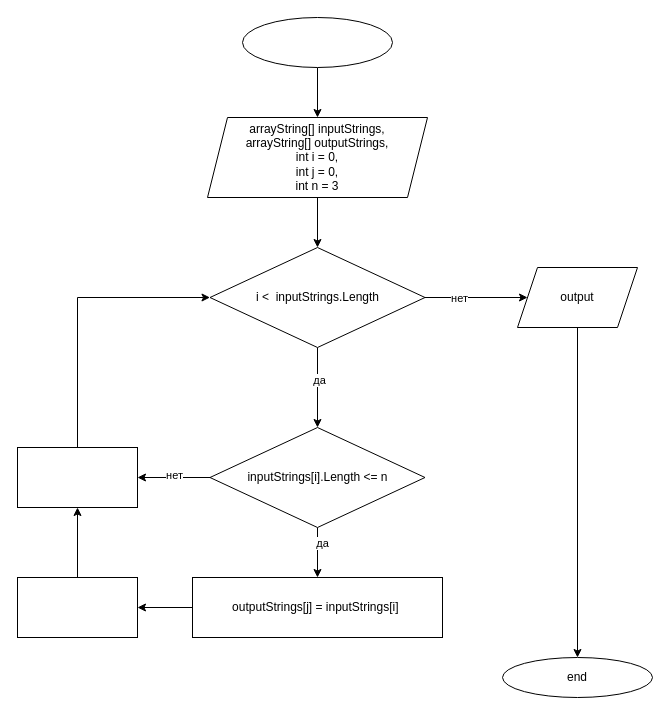
The diagram is 670 pixels wide and 715 high, and some of its shapes have lost their labels. Each missing label, with the centre of its shape:
beginning: point (317, 42)
i++: point (77, 477)
j++: point (77, 607)
